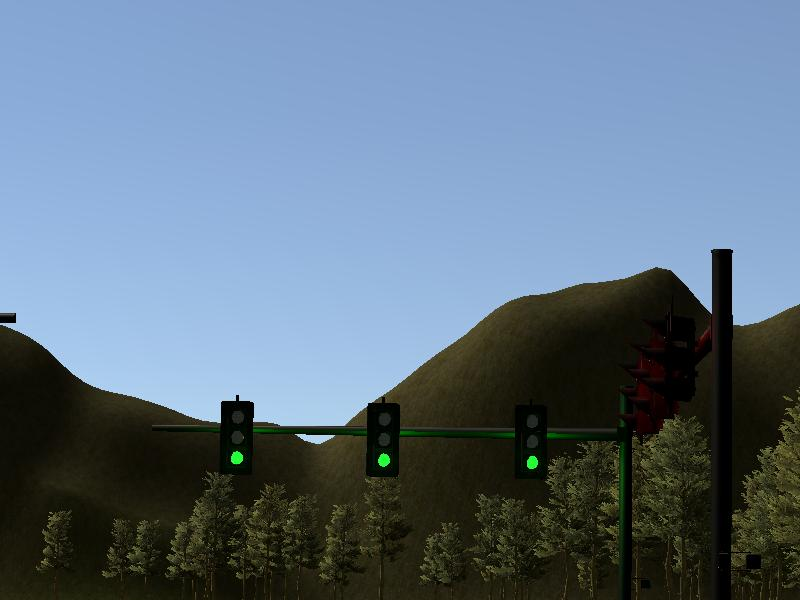Green: (516, 407, 545, 477), (369, 403, 396, 477), (222, 402, 250, 473)
